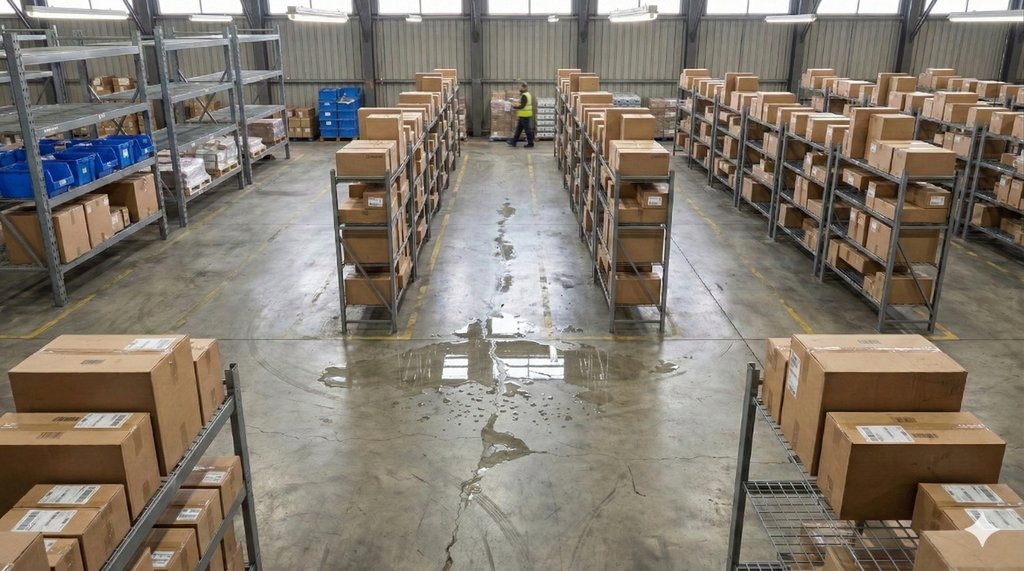empty_shelf: (160, 9, 281, 126), (15, 22, 150, 118)
person: (492, 55, 547, 155)
safety_vest: (513, 87, 538, 119)
spill: (314, 327, 677, 416)
